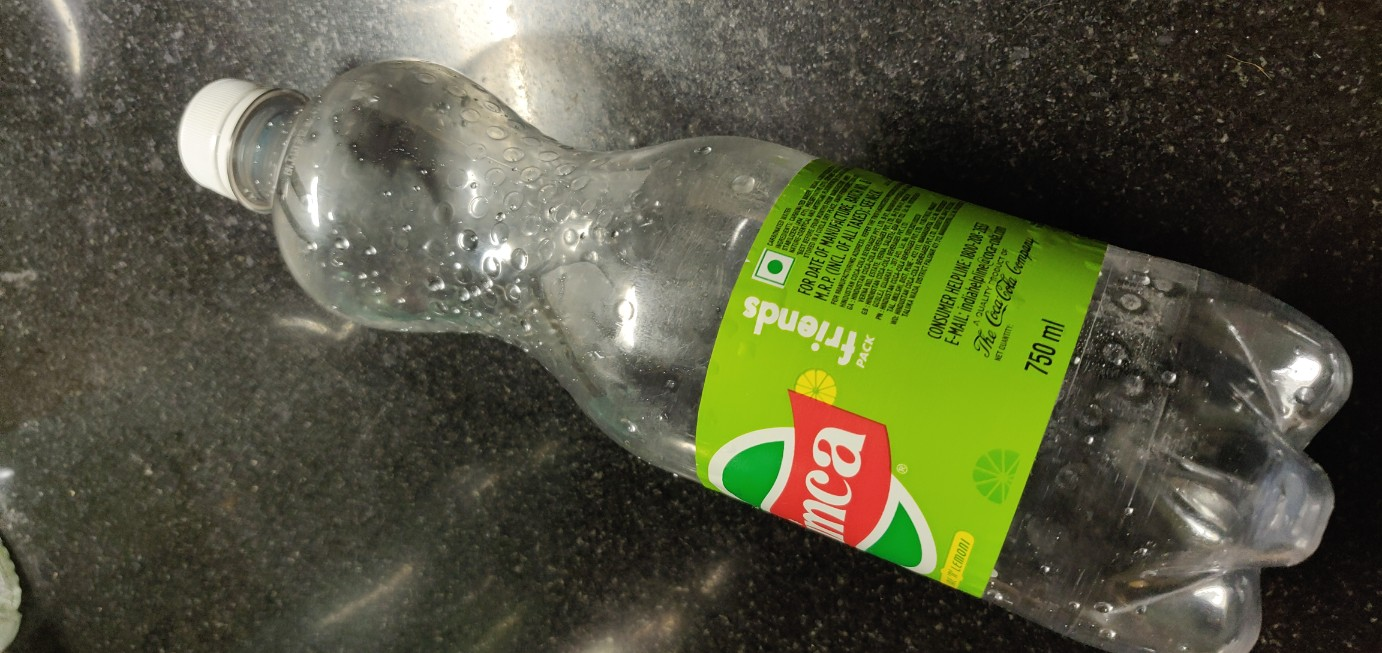Electronics: (158, 38, 1362, 653)
